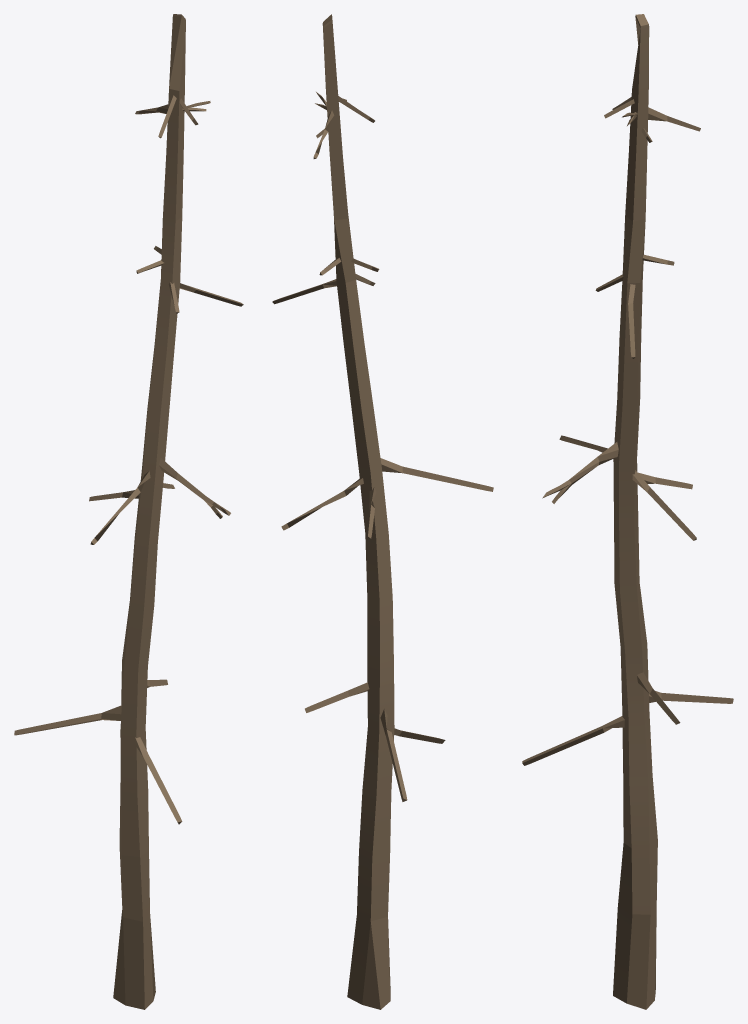
File: pine_bare_7.FBX
3 renders of one model, left to right at view 1: azimuth 30°, elevation 25°; view 2: azimuth 150°, elevation 25°; view 3: azimuth 270°, elevation 25°, orthographic. The views are drawn at different scales.
Visible parts, largest first — view 1: pine_bare_7; view 2: pine_bare_7; view 3: pine_bare_7.
Part boxes in pixels (x1,y1,x2,y2): pine_bare_7: (14,14,243,1009); pine_bare_7: (272,14,493,1009); pine_bare_7: (522,14,733,1009).
Size of the model in its own units: 1.49 by 7.45 by 1.42.
